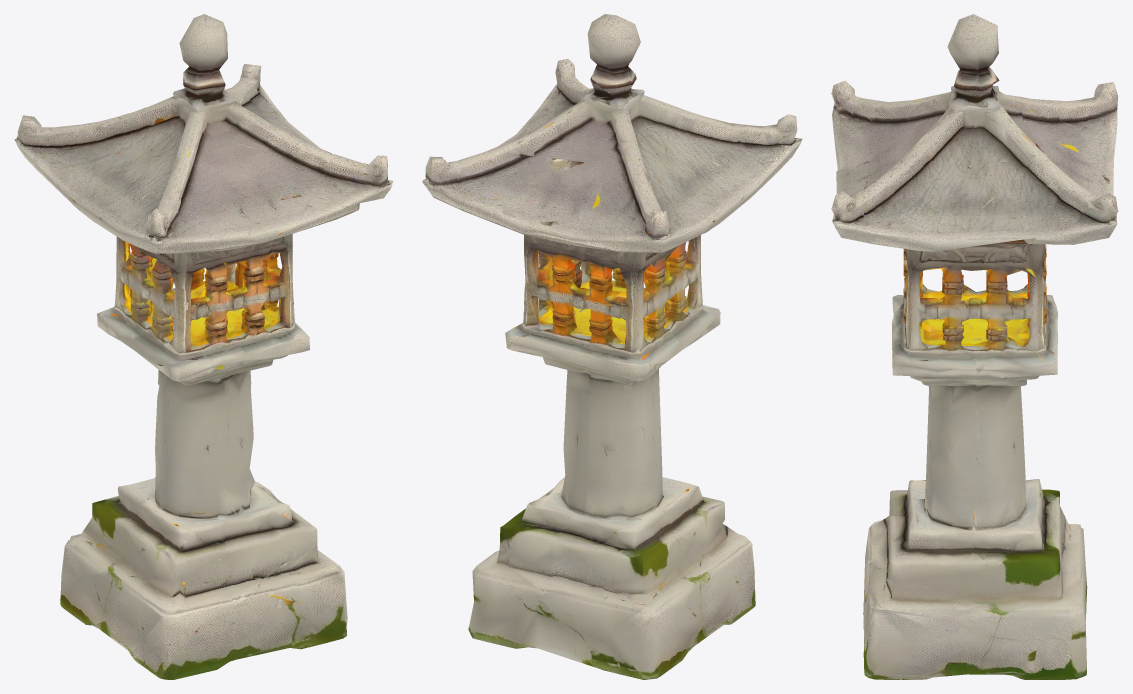
File: stone_lantern.glb
3 renders of one model, left to right at view 1: azimuth 30°, elevation 25°; view 2: azimuth 150°, elevation 25°; view 3: azimuth 270°, elevation 25°, orthographic. The views are drawn at different scales.
Bounding box in the file's own units: 0.8009 × 1.9 × 0.8001.
1 material, 1 textured.
